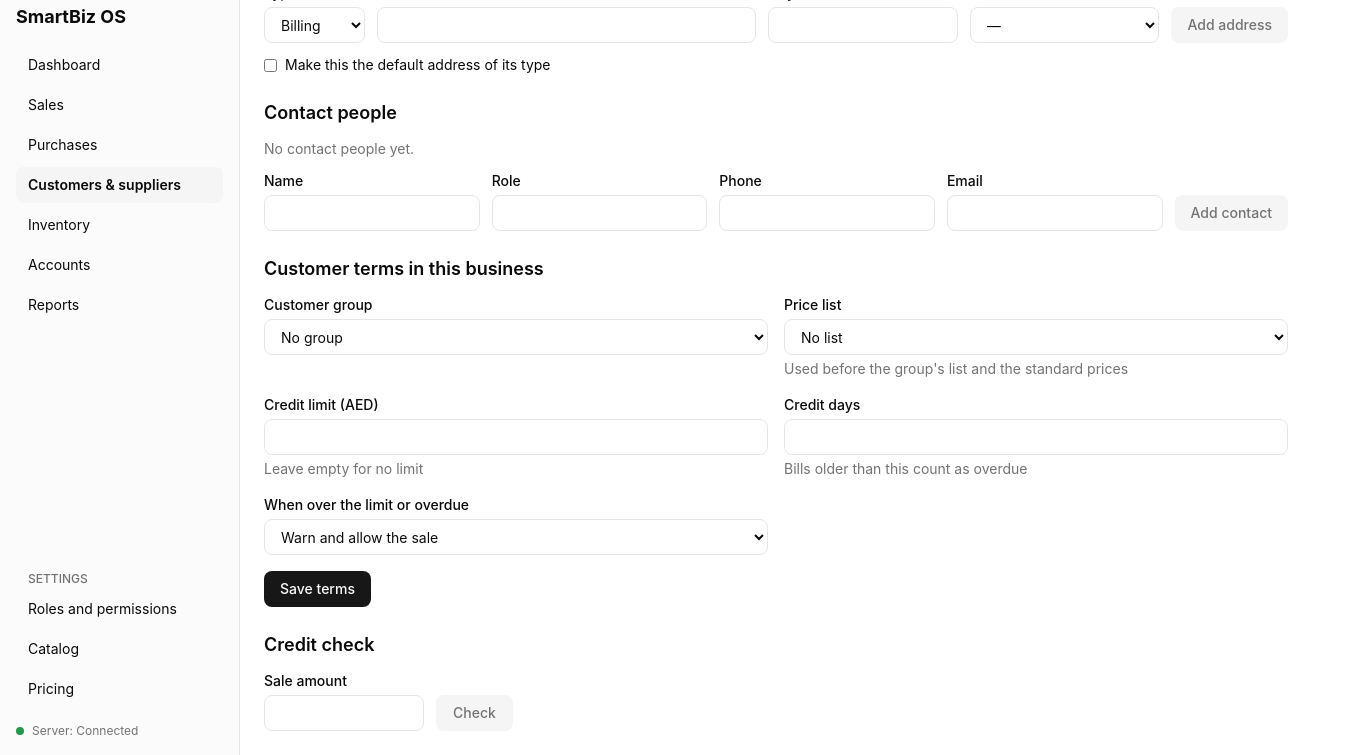
Scenario: Customers & suppliers screens › saves customer terms with the credit limit as exact text
(page scrolled)
Step 1. Type "5000.50" into the field labelled "Credit limit (AED)" → (516, 437), box [264,419,768,455]
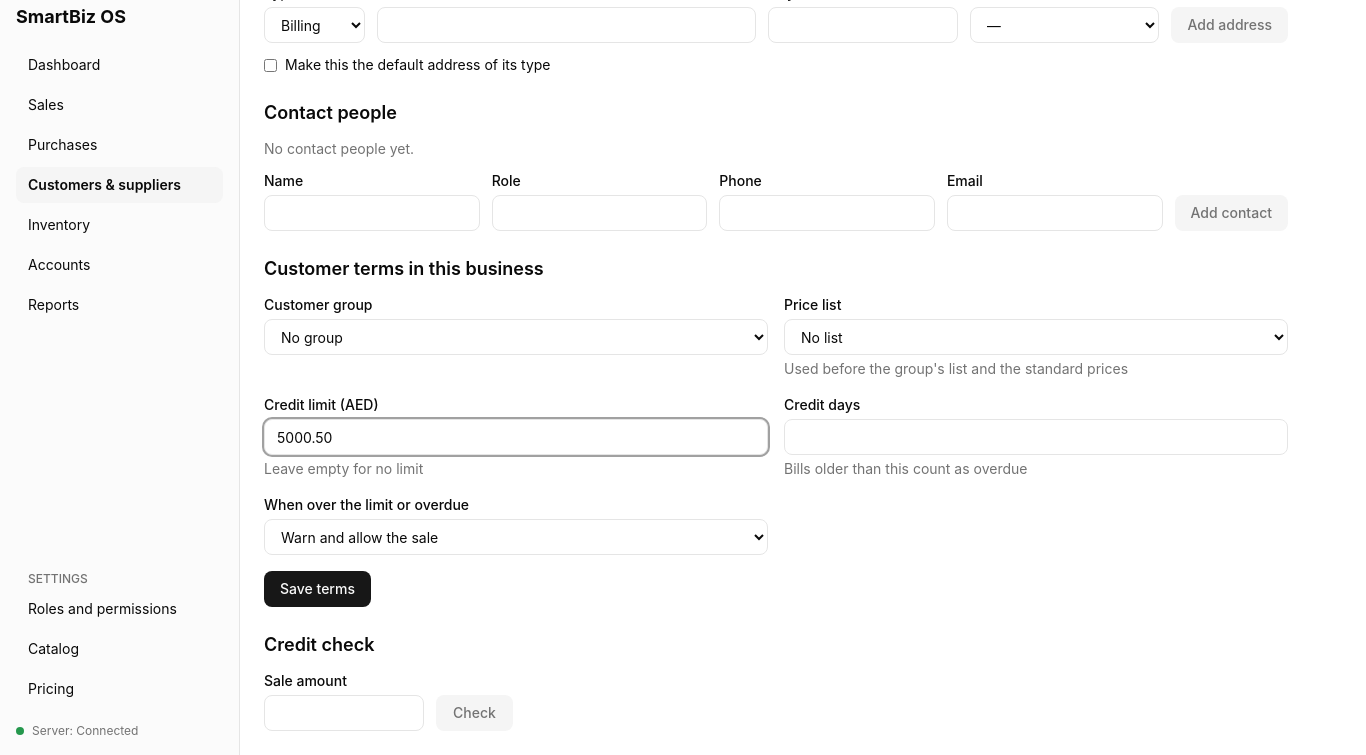
Step 2. Type "30" into the field labelled "Credit days" → (1036, 437), box [784,419,1288,455]
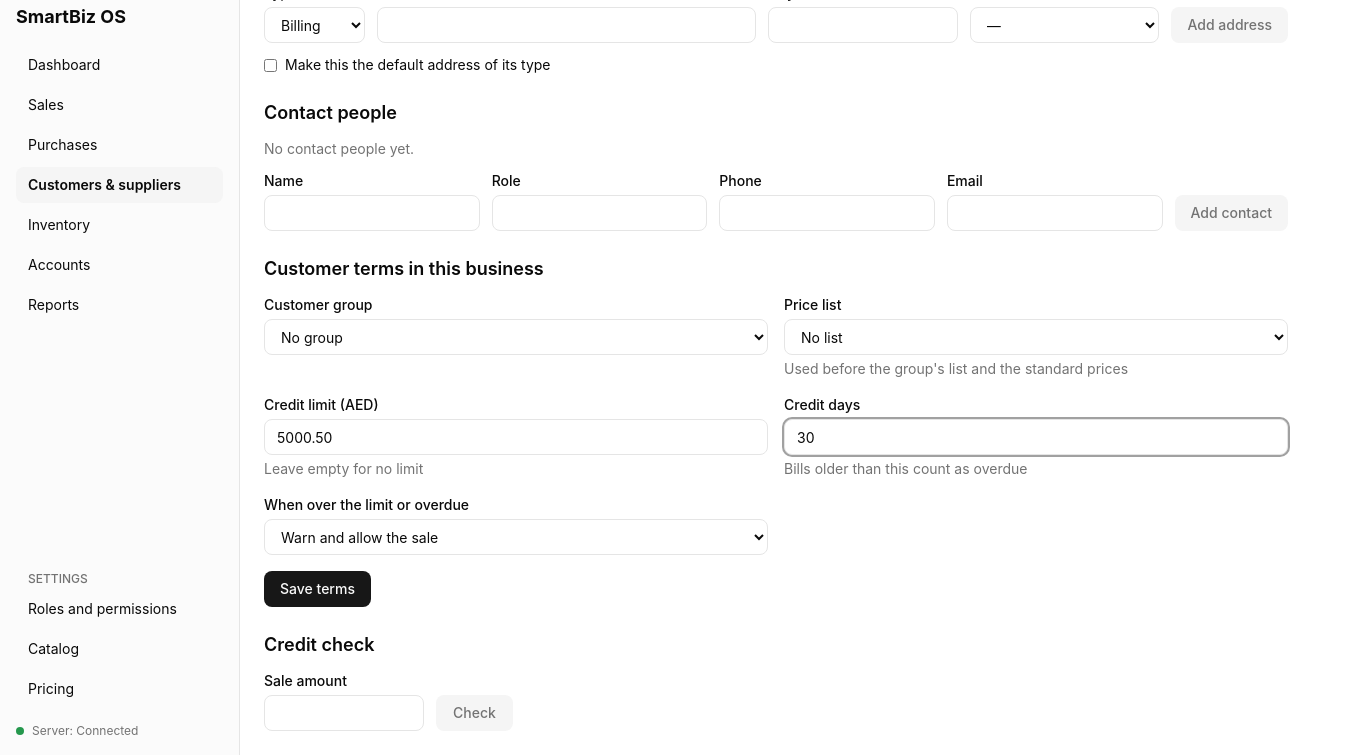
Step 3. Select "Block the sale" in the dropdown labelled "When over the limit or overdue" → (516, 537), box [264,519,768,555]
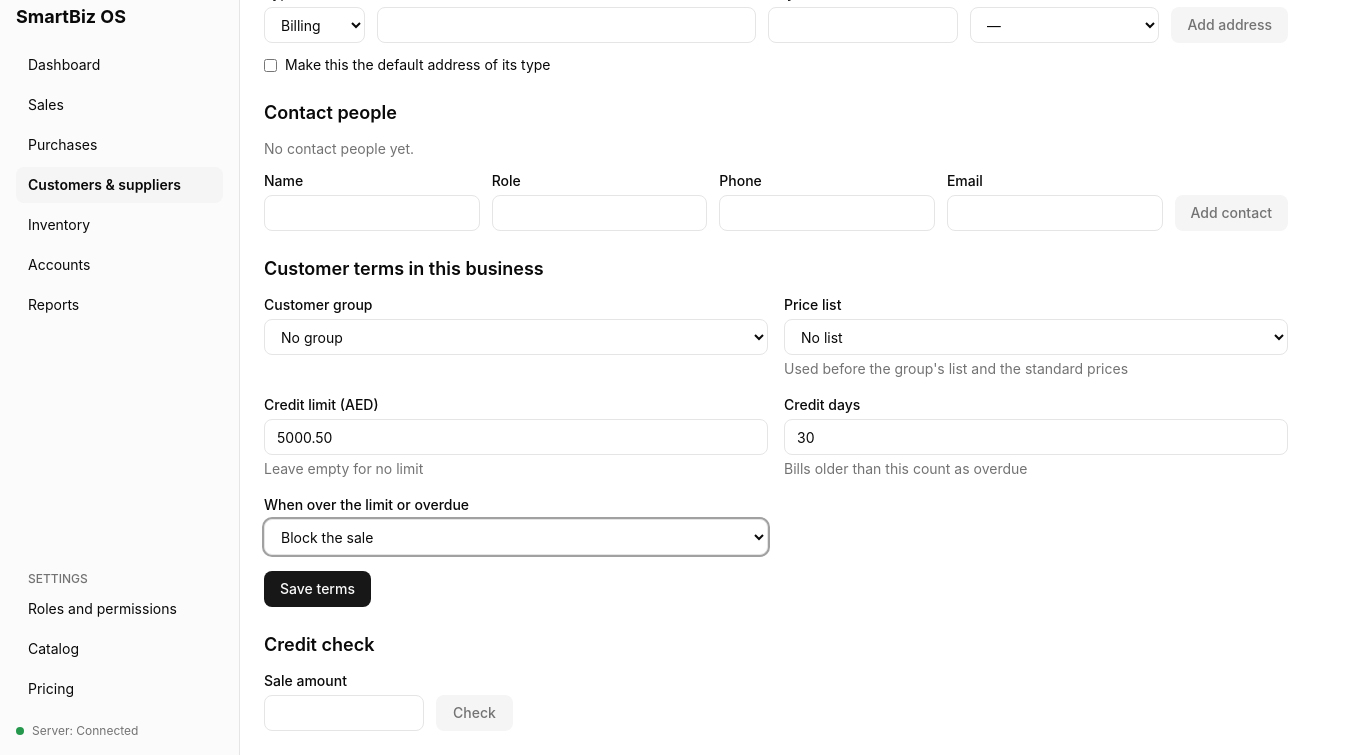
Step 4. Click the button "Save terms" → (317, 589), box [264,571,371,607]
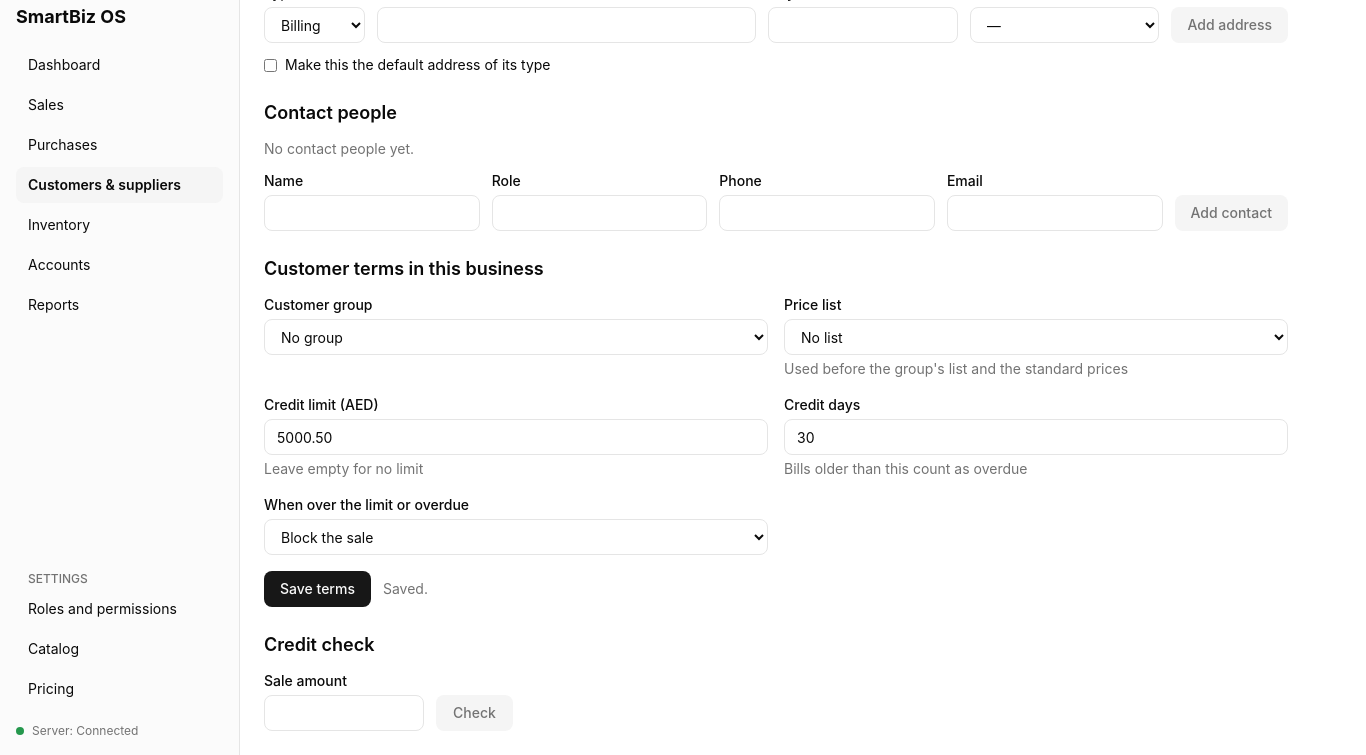
Result: the text "Saved." is shown at [383,579,428,599]
